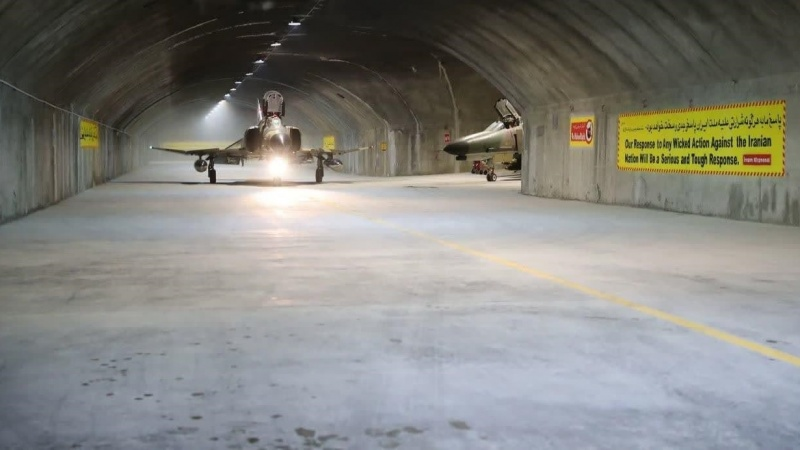F4: (149, 90, 374, 187), (431, 97, 524, 182)
